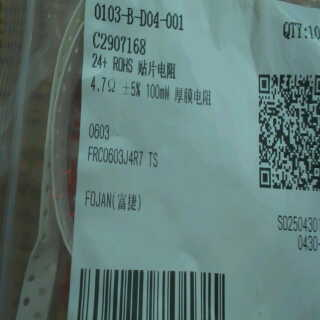4.7R: (89, 74, 118, 97)
